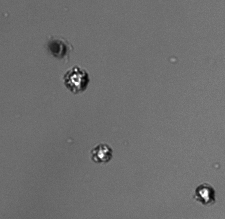Dead Cell: (48, 39, 69, 58)
Living Cell: (64, 65, 90, 94), (195, 182, 216, 206), (92, 143, 112, 164)
